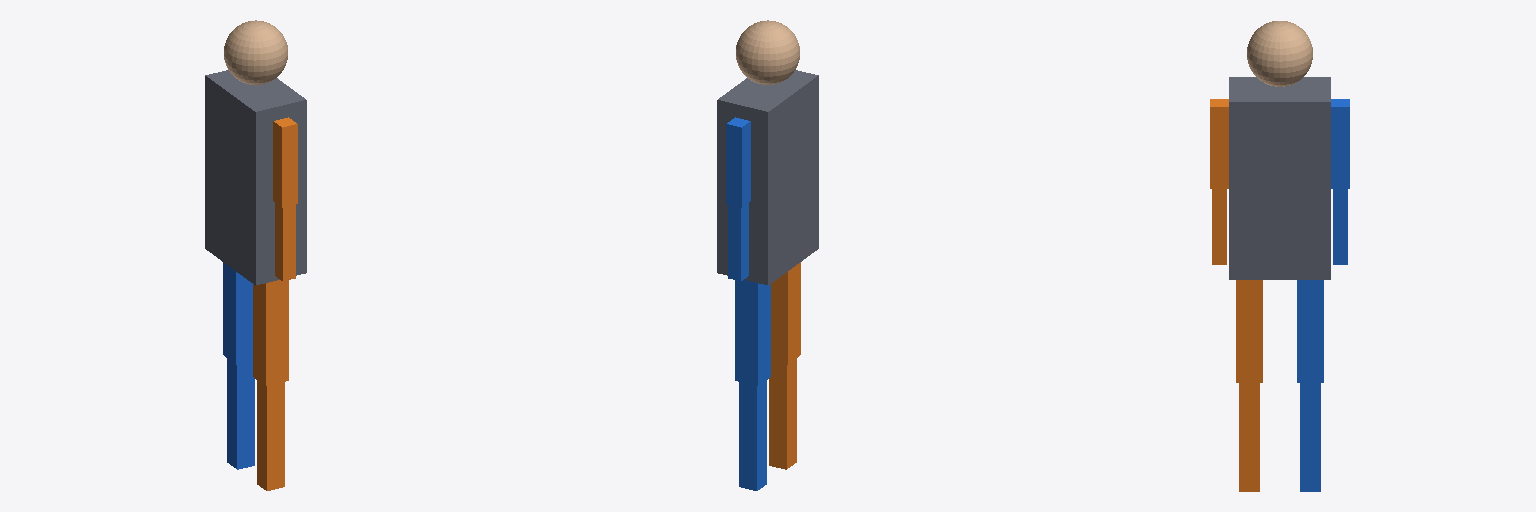
robot.urdf — humanoid_v3:
<?xml version="1.0"?>
<!-- ==========================================================================
     humanoid_v3.urdf  —  the walking figure, now with sideways motion
     ==========================================================================
     Upgrade from humanoid.urdf: each shoulder and hip is now TWO stacked
     hinges instead of one, so limbs can move in 3D:

       *_flex  : forward/back swing.   axis (0 -1 0): positive = FORWARD
       *_abd   : sideways raise.       axis (±1 0 0): positive = AWAY from body
                 (left limbs +x axis, right limbs -x axis, so the convention
                  is symmetric: positive always means "out to the side")

     Elbows and knees stay single hinges (as in humans):
       * elbow axis (0 -1 0), positive folds the forearm FORWARD, lower=0
       * knee  axis (0  1 0), positive folds the shin BACKWARD,  lower=0

     The tiny *_link bodies between the two hinges of a shoulder/hip are
     massless connectors — URDF needs a link between every pair of joints.

     Chain per limb:  torso -> J_flex -> connector -> J_abd -> limb...
     Left limbs are blue, right limbs are orange.
     ========================================================================== -->
<robot name="humanoid_v3">

  <!-- ============================ TORSO (root) ============================ -->
  <link name="torso">
    <visual>
      <geometry><box size="0.20 0.34 0.65"/></geometry>
      <origin xyz="0 0 0.325"/>
      <material name="gray"><color rgba="0.45 0.47 0.52 1"/></material>
    </visual>
    <collision><geometry><box size="0.20 0.34 0.65"/></geometry><origin xyz="0 0 0.325"/></collision>
    <inertial><mass value="8.0"/><inertia ixx="0.1" iyy="0.1" izz="0.05" ixy="0" ixz="0" iyz="0"/></inertial>
    <visual>
      <geometry><sphere radius="0.11"/></geometry>
      <origin xyz="0 0 0.78"/>
      <material name="tan"><color rgba="0.85 0.72 0.6 1"/></material>
    </visual>
  </link>

  <!-- ============================== LEFT ARM ============================== -->
  <joint name="L_shoulder_flex" type="revolute">
    <parent link="torso"/><child link="L_shoulder_link"/>
    <origin xyz="0 0.20 0.6"/><axis xyz="0 -1 0"/>
    <limit lower="-1.2" upper="3.1" effort="30" velocity="8"/>
  </joint>
  <link name="L_shoulder_link">
    <inertial><mass value="0.05"/><inertia ixx="1e-4" iyy="1e-4" izz="1e-4" ixy="0" ixz="0" iyz="0"/></inertial>
  </link>
  <joint name="L_shoulder_abd" type="revolute">
    <parent link="L_shoulder_link"/><child link="L_uparm"/>
    <origin xyz="0 0 0"/><axis xyz="1 0 0"/>
    <limit lower="-0.5" upper="3.0" effort="30" velocity="8"/>
  </joint>
  <link name="L_uparm">
    <visual><geometry><box size="0.06 0.06 0.30"/></geometry><origin xyz="0 0 -0.15"/>
      <material name="blue"><color rgba="0.2 0.5 0.9 1"/></material></visual>
    <collision><geometry><box size="0.06 0.06 0.30"/></geometry><origin xyz="0 0 -0.15"/></collision>
    <inertial><mass value="0.8"/><origin xyz="0 0 -0.15"/><inertia ixx="0.006" iyy="0.006" izz="0.001" ixy="0" ixz="0" iyz="0"/></inertial>
  </link>
  <joint name="L_elbow" type="revolute">
    <parent link="L_uparm"/><child link="L_forearm"/>
    <origin xyz="0 0 -0.30"/><axis xyz="0 -1 0"/>
    <limit lower="0" upper="2.7" effort="30" velocity="8"/>
  </joint>
  <link name="L_forearm">
    <visual><geometry><box size="0.05 0.05 0.28"/></geometry><origin xyz="0 0 -0.14"/>
      <material name="blue"/></visual>
    <collision><geometry><box size="0.05 0.05 0.28"/></geometry><origin xyz="0 0 -0.14"/></collision>
    <inertial><mass value="0.6"/><origin xyz="0 0 -0.14"/><inertia ixx="0.004" iyy="0.004" izz="0.001" ixy="0" ixz="0" iyz="0"/></inertial>
  </link>

  <!-- ============================= RIGHT ARM ============================= -->
  <joint name="R_shoulder_flex" type="revolute">
    <parent link="torso"/><child link="R_shoulder_link"/>
    <origin xyz="0 -0.20 0.6"/><axis xyz="0 -1 0"/>
    <limit lower="-1.2" upper="3.1" effort="30" velocity="8"/>
  </joint>
  <link name="R_shoulder_link">
    <inertial><mass value="0.05"/><inertia ixx="1e-4" iyy="1e-4" izz="1e-4" ixy="0" ixz="0" iyz="0"/></inertial>
  </link>
  <joint name="R_shoulder_abd" type="revolute">
    <parent link="R_shoulder_link"/><child link="R_uparm"/>
    <origin xyz="0 0 0"/><axis xyz="-1 0 0"/>
    <limit lower="-0.5" upper="3.0" effort="30" velocity="8"/>
  </joint>
  <link name="R_uparm">
    <visual><geometry><box size="0.06 0.06 0.30"/></geometry><origin xyz="0 0 -0.15"/>
      <material name="orange"><color rgba="0.95 0.55 0.2 1"/></material></visual>
    <collision><geometry><box size="0.06 0.06 0.30"/></geometry><origin xyz="0 0 -0.15"/></collision>
    <inertial><mass value="0.8"/><origin xyz="0 0 -0.15"/><inertia ixx="0.006" iyy="0.006" izz="0.001" ixy="0" ixz="0" iyz="0"/></inertial>
  </link>
  <joint name="R_elbow" type="revolute">
    <parent link="R_uparm"/><child link="R_forearm"/>
    <origin xyz="0 0 -0.30"/><axis xyz="0 -1 0"/>
    <limit lower="0" upper="2.7" effort="30" velocity="8"/>
  </joint>
  <link name="R_forearm">
    <visual><geometry><box size="0.05 0.05 0.28"/></geometry><origin xyz="0 0 -0.14"/>
      <material name="orange"/></visual>
    <collision><geometry><box size="0.05 0.05 0.28"/></geometry><origin xyz="0 0 -0.14"/></collision>
    <inertial><mass value="0.6"/><origin xyz="0 0 -0.14"/><inertia ixx="0.004" iyy="0.004" izz="0.001" ixy="0" ixz="0" iyz="0"/></inertial>
  </link>

  <!-- ============================== LEFT LEG ============================== -->
  <joint name="L_hip_flex" type="revolute">
    <parent link="torso"/><child link="L_hip_link"/>
    <origin xyz="0 0.10 0"/><axis xyz="0 -1 0"/>
    <limit lower="-1.0" upper="2.1" effort="80" velocity="8"/>
  </joint>
  <link name="L_hip_link">
    <inertial><mass value="0.05"/><inertia ixx="1e-4" iyy="1e-4" izz="1e-4" ixy="0" ixz="0" iyz="0"/></inertial>
  </link>
  <joint name="L_hip_abd" type="revolute">
    <parent link="L_hip_link"/><child link="L_thigh"/>
    <origin xyz="0 0 0"/><axis xyz="1 0 0"/>
    <limit lower="-0.4" upper="1.2" effort="80" velocity="8"/>
  </joint>
  <link name="L_thigh">
    <visual><geometry><box size="0.09 0.09 0.40"/></geometry><origin xyz="0 0 -0.20"/>
      <material name="blue"/></visual>
    <collision><geometry><box size="0.09 0.09 0.40"/></geometry><origin xyz="0 0 -0.20"/></collision>
    <inertial><mass value="1.5"/><origin xyz="0 0 -0.20"/><inertia ixx="0.02" iyy="0.02" izz="0.003" ixy="0" ixz="0" iyz="0"/></inertial>
  </link>
  <joint name="L_knee" type="revolute">
    <parent link="L_thigh"/><child link="L_shin"/>
    <origin xyz="0 0 -0.40"/><axis xyz="0 1 0"/>
    <limit lower="0" upper="2.4" effort="80" velocity="8"/>
  </joint>
  <link name="L_shin">
    <visual><geometry><box size="0.07 0.07 0.40"/></geometry><origin xyz="0 0 -0.20"/>
      <material name="blue"/></visual>
    <collision><geometry><box size="0.07 0.07 0.40"/></geometry><origin xyz="0 0 -0.20"/></collision>
    <inertial><mass value="1.0"/><origin xyz="0 0 -0.20"/><inertia ixx="0.014" iyy="0.014" izz="0.002" ixy="0" ixz="0" iyz="0"/></inertial>
  </link>

  <!-- ============================= RIGHT LEG ============================= -->
  <joint name="R_hip_flex" type="revolute">
    <parent link="torso"/><child link="R_hip_link"/>
    <origin xyz="0 -0.10 0"/><axis xyz="0 -1 0"/>
    <limit lower="-1.0" upper="2.1" effort="80" velocity="8"/>
  </joint>
  <link name="R_hip_link">
    <inertial><mass value="0.05"/><inertia ixx="1e-4" iyy="1e-4" izz="1e-4" ixy="0" ixz="0" iyz="0"/></inertial>
  </link>
  <joint name="R_hip_abd" type="revolute">
    <parent link="R_hip_link"/><child link="R_thigh"/>
    <origin xyz="0 0 0"/><axis xyz="-1 0 0"/>
    <limit lower="-0.4" upper="1.2" effort="80" velocity="8"/>
  </joint>
  <link name="R_thigh">
    <visual><geometry><box size="0.09 0.09 0.40"/></geometry><origin xyz="0 0 -0.20"/>
      <material name="orange"/></visual>
    <collision><geometry><box size="0.09 0.09 0.40"/></geometry><origin xyz="0 0 -0.20"/></collision>
    <inertial><mass value="1.5"/><origin xyz="0 0 -0.20"/><inertia ixx="0.02" iyy="0.02" izz="0.003" ixy="0" ixz="0" iyz="0"/></inertial>
  </link>
  <joint name="R_knee" type="revolute">
    <parent link="R_thigh"/><child link="R_shin"/>
    <origin xyz="0 0 -0.40"/><axis xyz="0 1 0"/>
    <limit lower="0" upper="2.4" effort="80" velocity="8"/>
  </joint>
  <link name="R_shin">
    <visual><geometry><box size="0.07 0.07 0.40"/></geometry><origin xyz="0 0 -0.20"/>
      <material name="orange"/></visual>
    <collision><geometry><box size="0.07 0.07 0.40"/></geometry><origin xyz="0 0 -0.20"/></collision>
    <inertial><mass value="1.0"/><origin xyz="0 0 -0.20"/><inertia ixx="0.014" iyy="0.014" izz="0.002" ixy="0" ixz="0" iyz="0"/></inertial>
  </link>

</robot>

--- What the picture shows (computed from the rendered views, not written in the file) ---
The picture shows the robot from 3 angles, left to right: view 1: azimuth 30°, elevation 25°; view 2: azimuth 150°, elevation 25°; view 3: azimuth 270°, elevation 25°; orthographic projection.
Model humanoid_v3 with 13 links and 12 joints (12 revolute), rooted at torso, posed every joint at zero.
Links seen in each view (by area): view 1: torso, R_thigh, R_shin, L_shin, L_thigh, R_uparm, R_forearm; view 2: torso, L_thigh, L_shin, R_shin, R_thigh, L_uparm, L_forearm; view 3: torso, L_thigh, R_thigh, L_shin, R_shin, L_uparm, R_uparm, L_forearm, R_forearm.
Boxes of the visible links, bbox=[...] form: torso: bbox=[205, 20, 306, 285]; R_thigh: bbox=[253, 280, 288, 385]; R_shin: bbox=[257, 380, 284, 490]; L_shin: bbox=[227, 358, 254, 469]; L_thigh: bbox=[223, 262, 252, 364]; R_uparm: bbox=[273, 117, 297, 207]; R_forearm: bbox=[275, 203, 295, 280]; torso: bbox=[717, 20, 818, 285]; L_thigh: bbox=[735, 280, 770, 385]; L_shin: bbox=[739, 380, 766, 490]; R_shin: bbox=[769, 358, 796, 469]; R_thigh: bbox=[771, 262, 800, 364]; L_uparm: bbox=[726, 117, 750, 207]; L_forearm: bbox=[728, 203, 748, 280]; torso: bbox=[1229, 21, 1330, 279]; L_thigh: bbox=[1297, 280, 1323, 382]; R_thigh: bbox=[1236, 280, 1262, 382]; L_shin: bbox=[1300, 383, 1320, 491]; R_shin: bbox=[1239, 383, 1259, 491]; L_uparm: bbox=[1331, 99, 1349, 188]; R_uparm: bbox=[1210, 99, 1228, 188]; L_forearm: bbox=[1333, 189, 1347, 264]; R_forearm: bbox=[1212, 189, 1226, 264].
Bounding box of the posed robot: 0.22 × 0.46 × 1.69 m (x, y, z).
Geometry: primitives only (box / cylinder / sphere), no mesh files.
